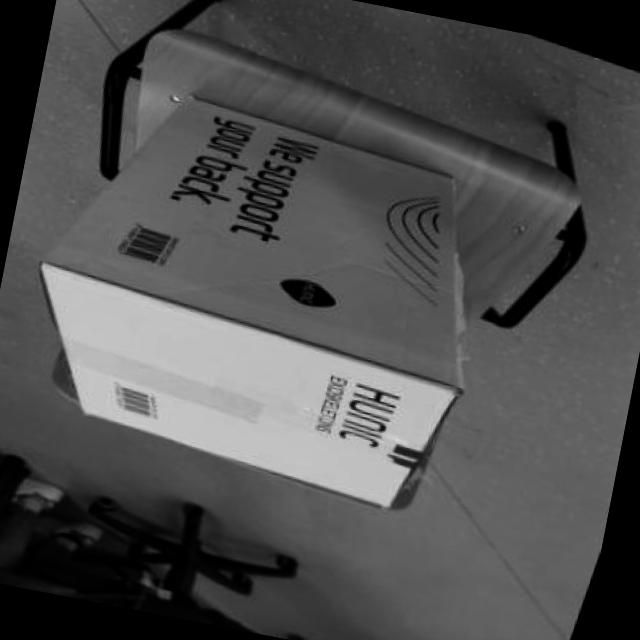box: (0, 38, 588, 544)
